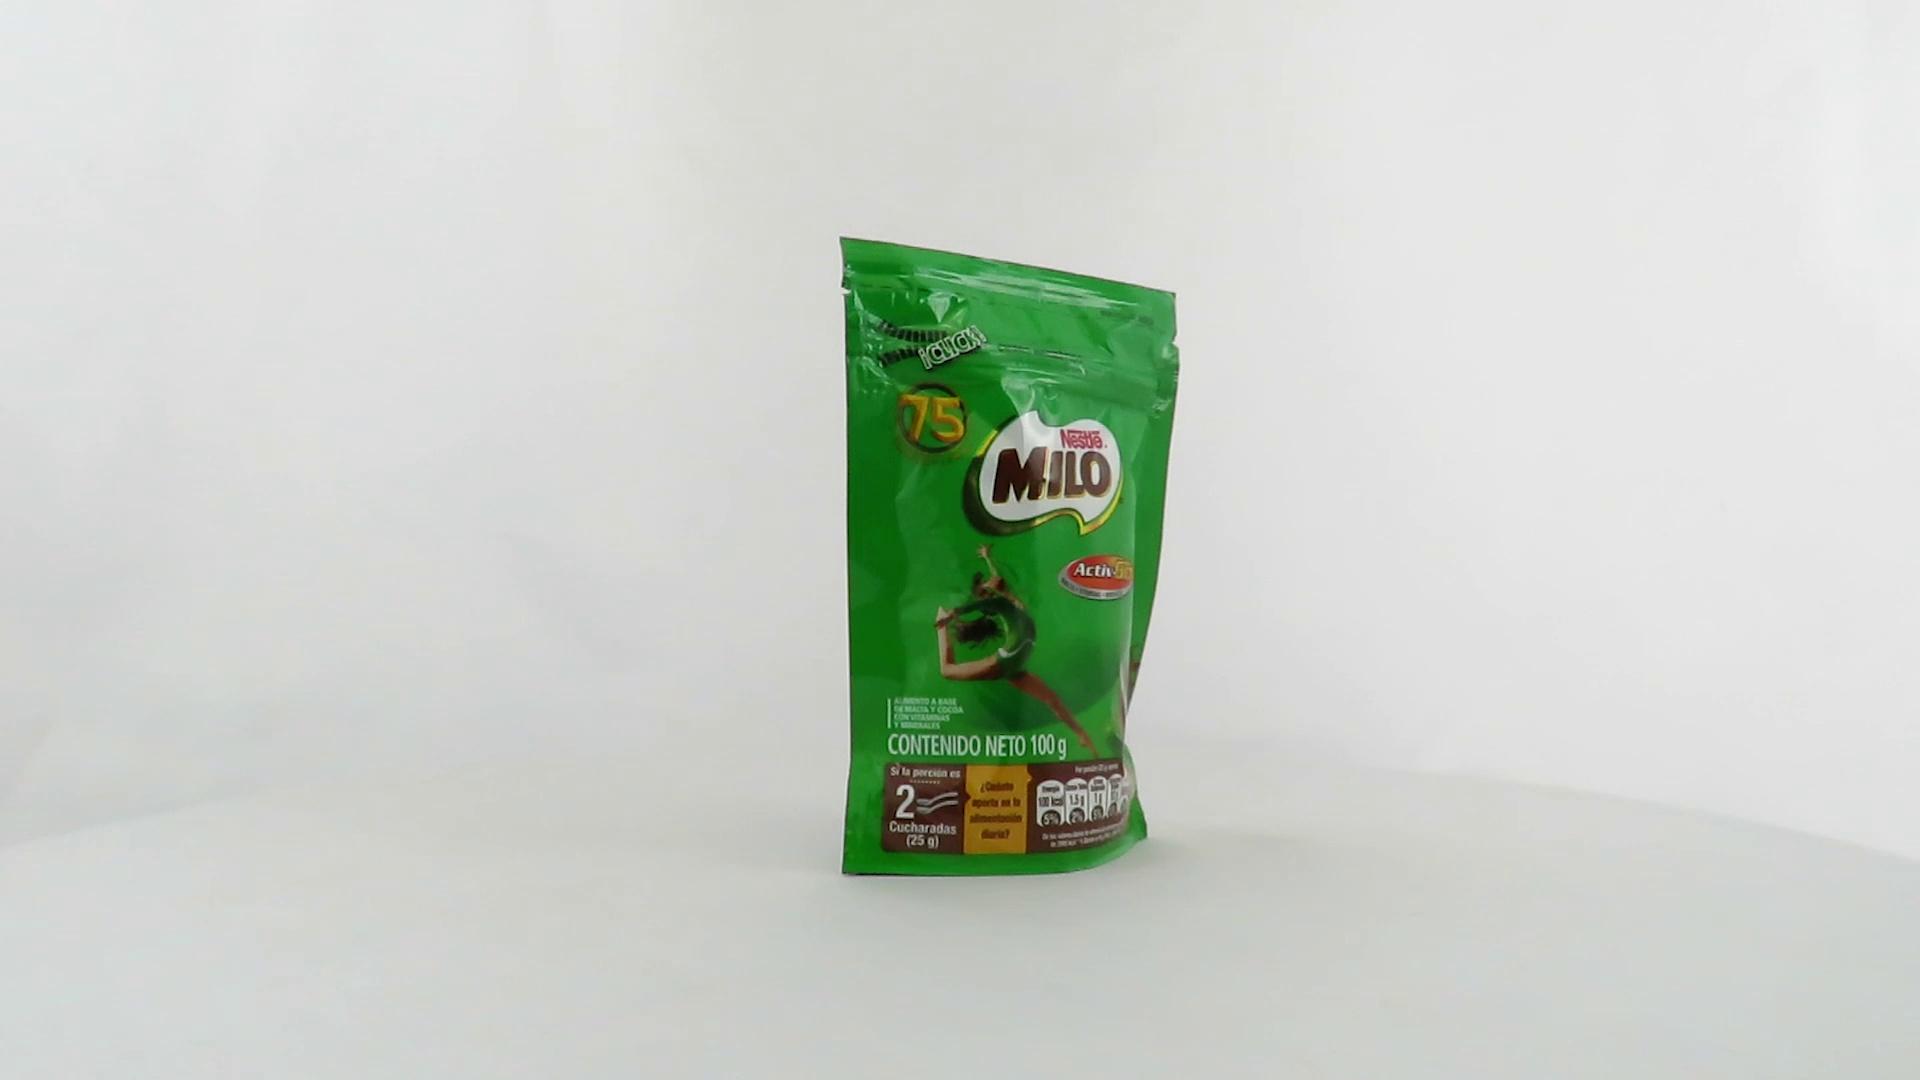COL0170203DYP10000: (833, 231, 1185, 884)
